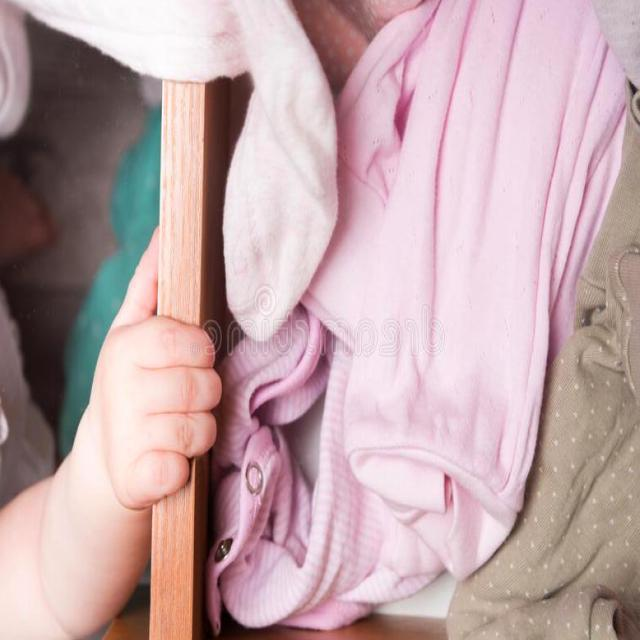clothes: (246, 53, 633, 624)
